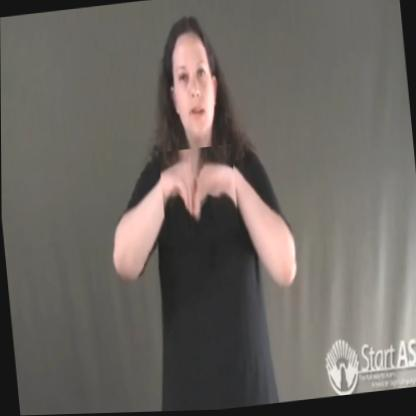HowAreYou: (158, 145, 240, 248)
